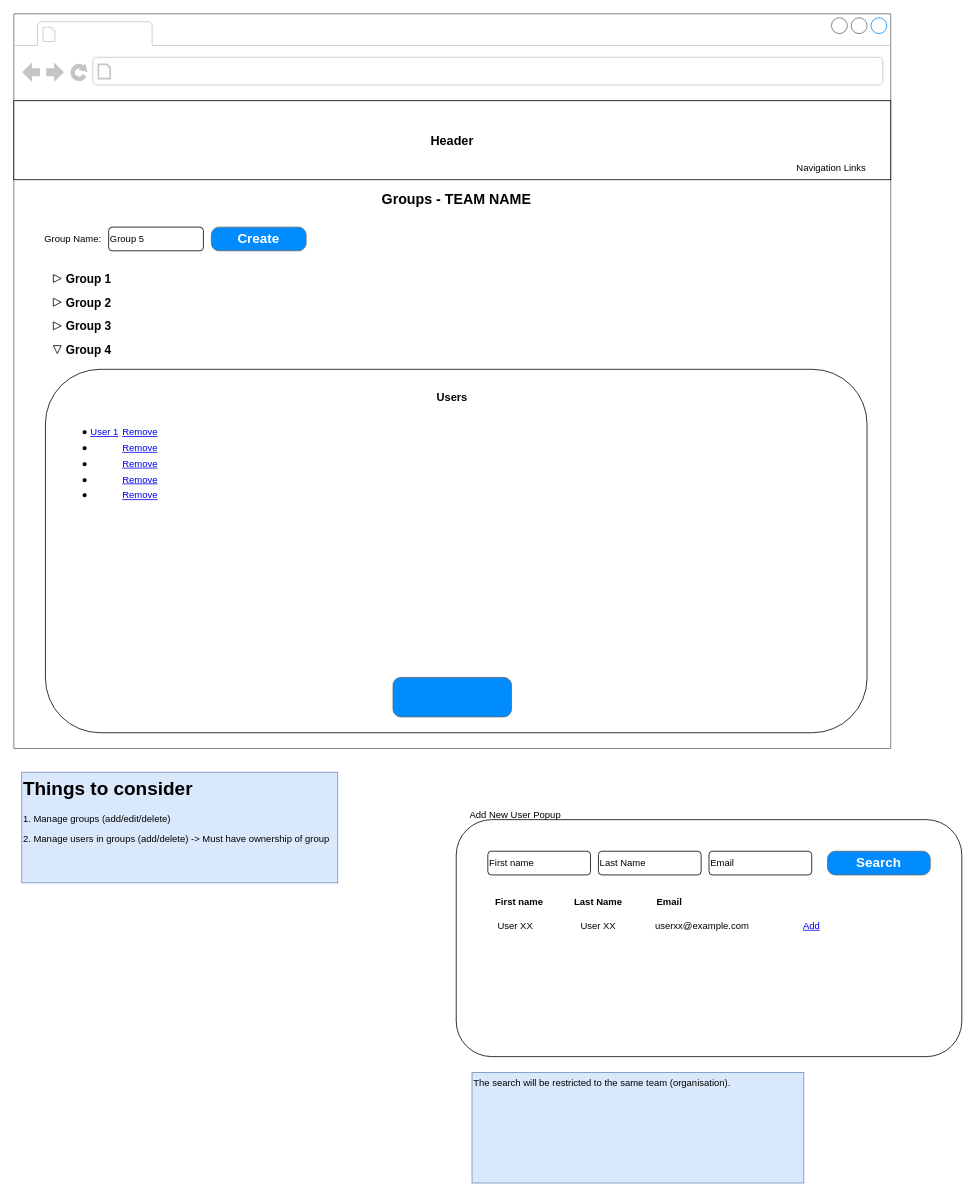
This 976x1197 diagram has some shape labels left out. Here are the shapes that lost their labels. From the top down, the centre of each, then its label:
At (x=104, y=33): "Page 1".
At (x=215, y=71): "https://www.draw.io/groups?teamId=".
At (x=452, y=697): "Add New User".
